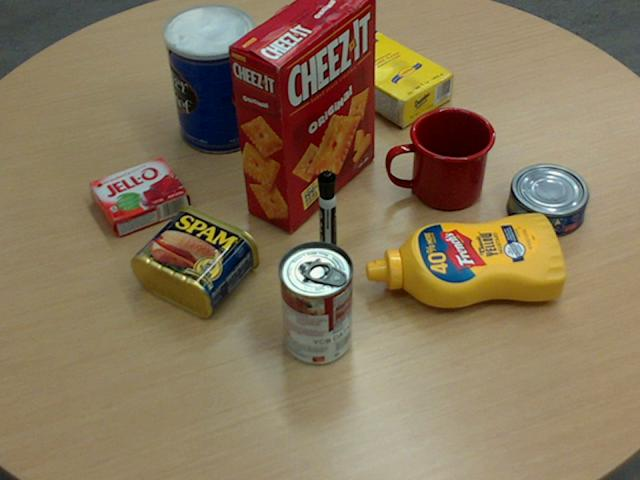cracker_box: (227, 0, 375, 232)
gelatin_box: (88, 155, 188, 235)
large_marker: (316, 171, 338, 265)
master_chef_can: (163, 4, 261, 153)
mug: (386, 106, 494, 209)
mustard_bottle: (365, 212, 565, 307)
potted_meat_can: (130, 203, 259, 316)
sugar_box: (306, 18, 453, 127)
tomato_soup_can: (276, 240, 352, 364)
tuna_fish_can: (506, 163, 587, 236)
